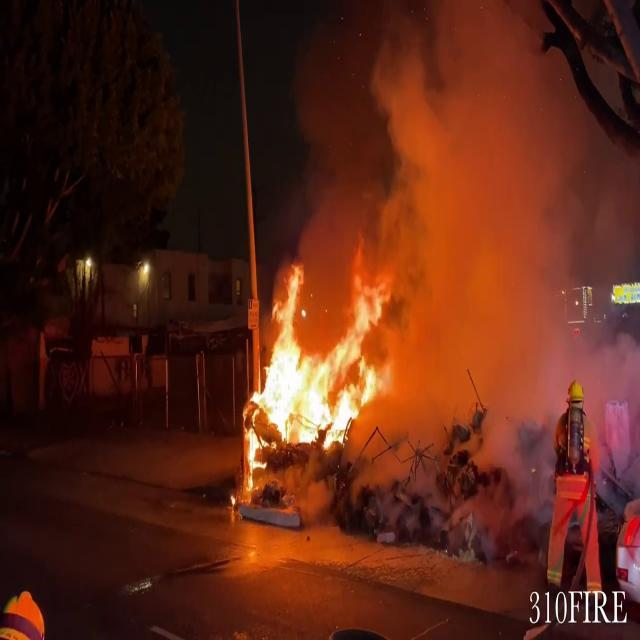Fire: (237, 256, 395, 492)
Smoke: (361, 1, 640, 473)
